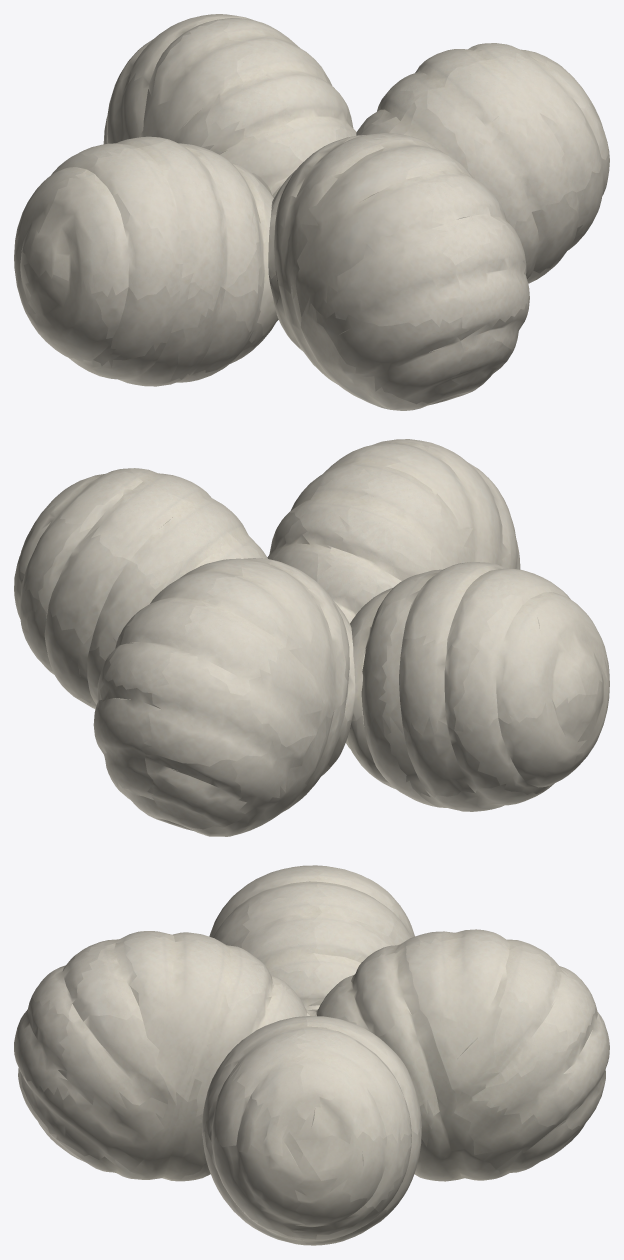
The model's file is ITM_COCOON_001.glb.
3 views of the same model, one above another, from view 1: azimuth 30°, elevation 25°; view 2: azimuth 150°, elevation 25°; view 3: azimuth 270°, elevation 25° (orthographic). The views are drawn at different scales.
Size of the model in its own units: 1.9 by 0.8094 by 1.87.
1 material, 1 textured.
